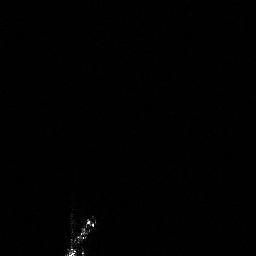ship: (61, 211, 100, 256)
